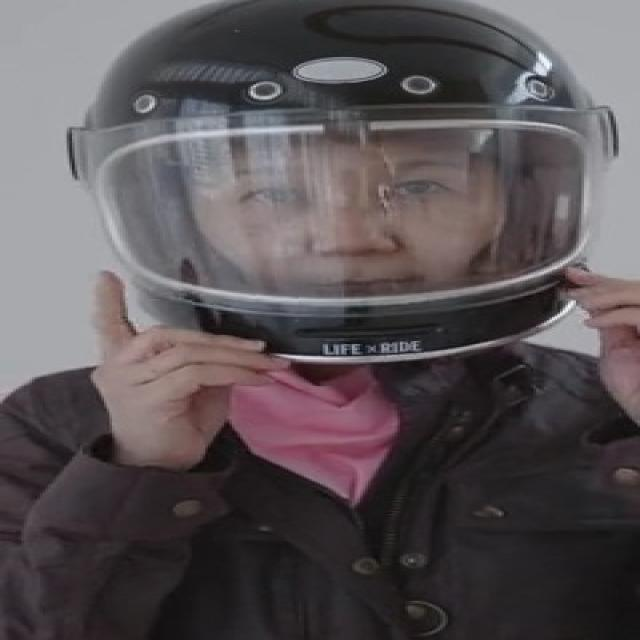Helmet_Wearer: (68, 0, 624, 375)
Person: (2, 0, 640, 640)
